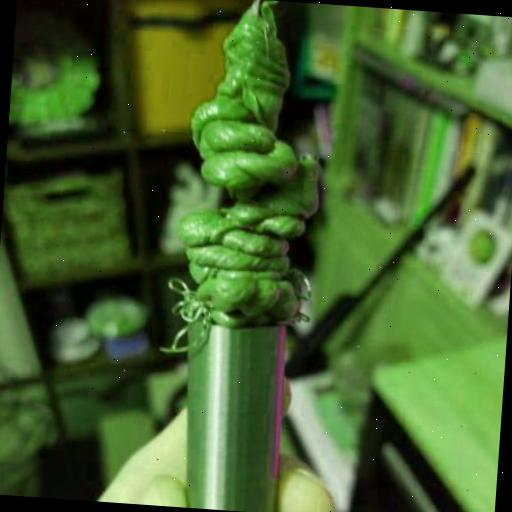spaghetti: (153, 0, 341, 371)
